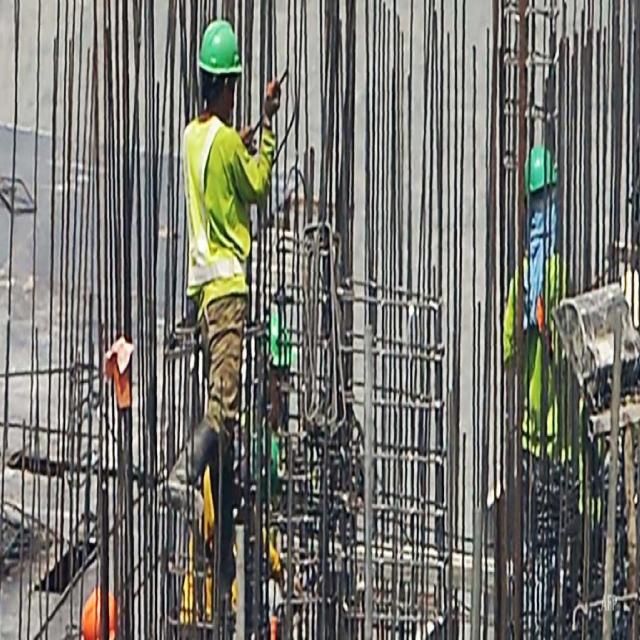Reflective-Jacket: (179, 112, 255, 318)
Safety-Helmet: (196, 15, 244, 81), (524, 142, 553, 195)
